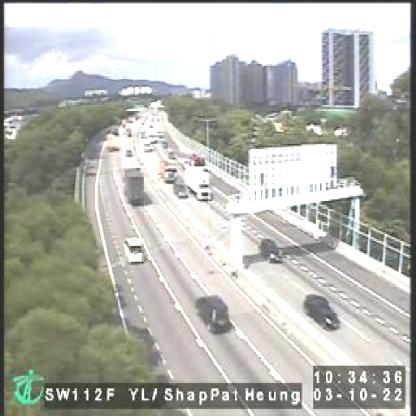Car: (195, 295, 230, 331), (303, 293, 338, 329), (260, 236, 281, 262), (122, 236, 143, 260), (174, 180, 189, 199)
Truck: (184, 164, 209, 198), (121, 166, 142, 201), (158, 158, 174, 178)
